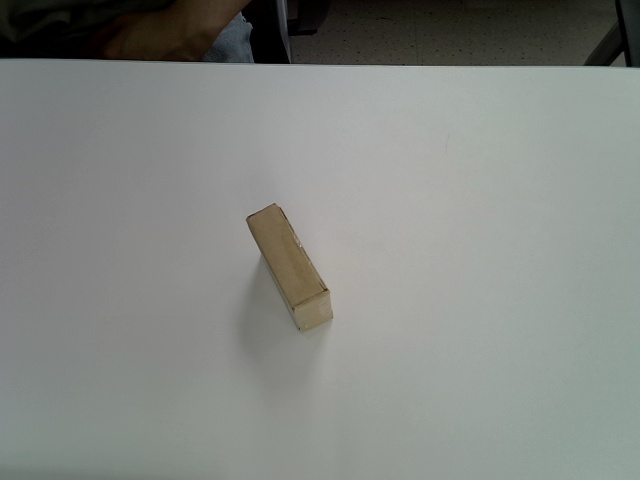normal: (245, 203, 336, 332)
